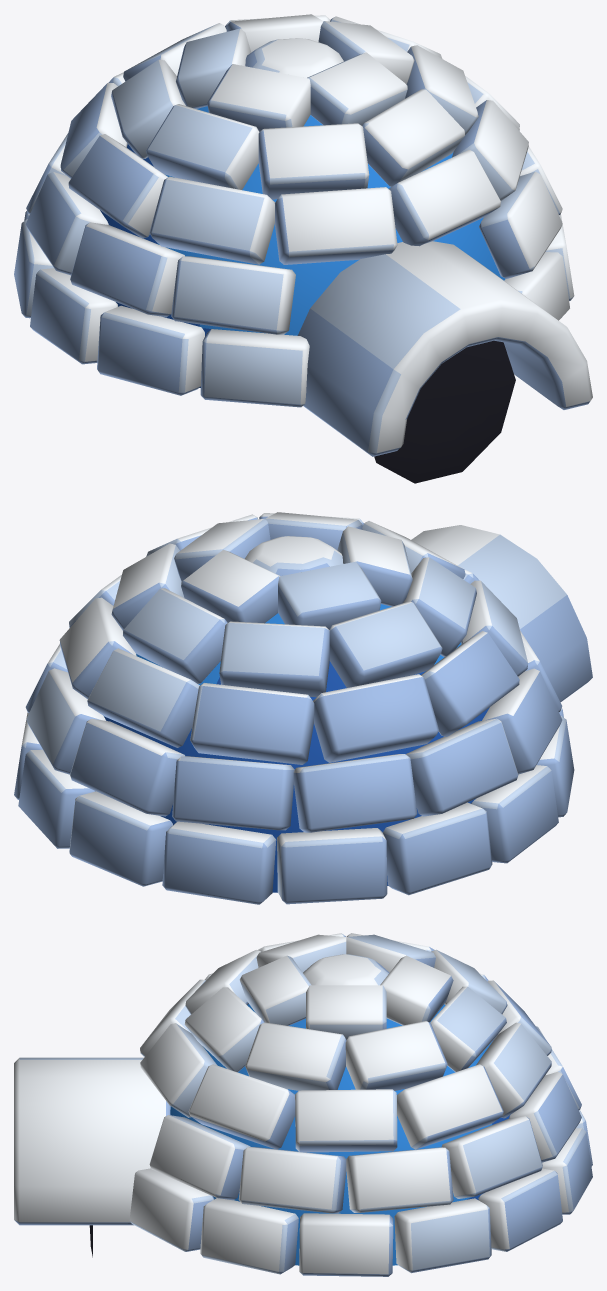
Rendered from Igloo.fbx.
3 views of the same model, one above another, from view 1: azimuth 30°, elevation 25°; view 2: azimuth 150°, elevation 25°; view 3: azimuth 270°, elevation 25° (orthographic). The views are drawn at different scales.
Parts seen in each view (by area): view 1: Igloo; view 2: Igloo; view 3: Igloo.
Part boxes in pixels (<box>): Igloo: <box>14,14,592,483</box>; Igloo: <box>14,512,592,904</box>; Igloo: <box>14,933,592,1276</box>.
Size of the model in its own units: 4.32 by 2.78 by 5.14.
1 material, 1 textured.
